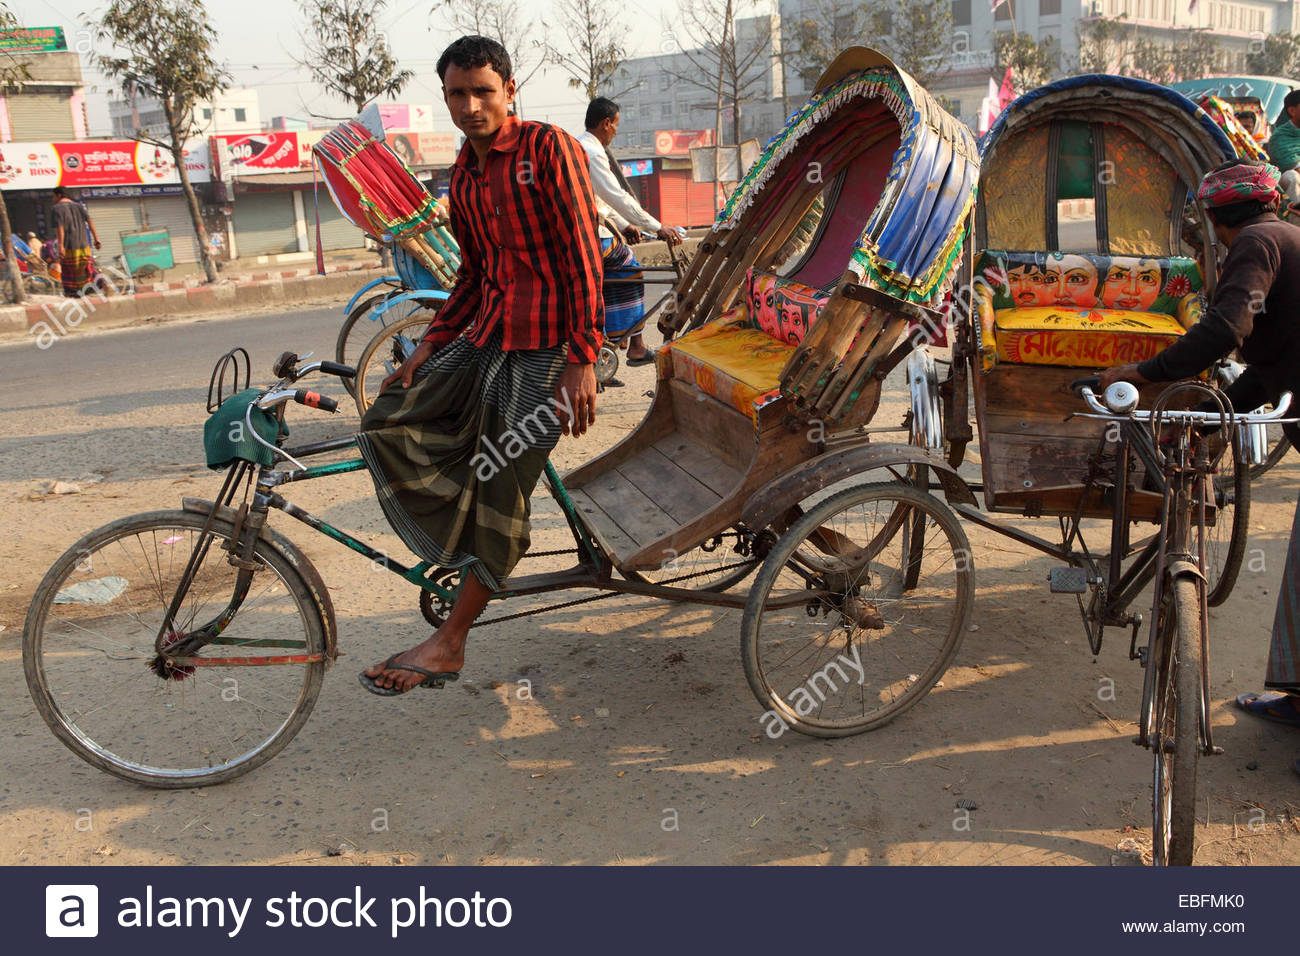Rickshaw: (46, 38, 958, 742), (959, 54, 1291, 861), (309, 103, 504, 388)
